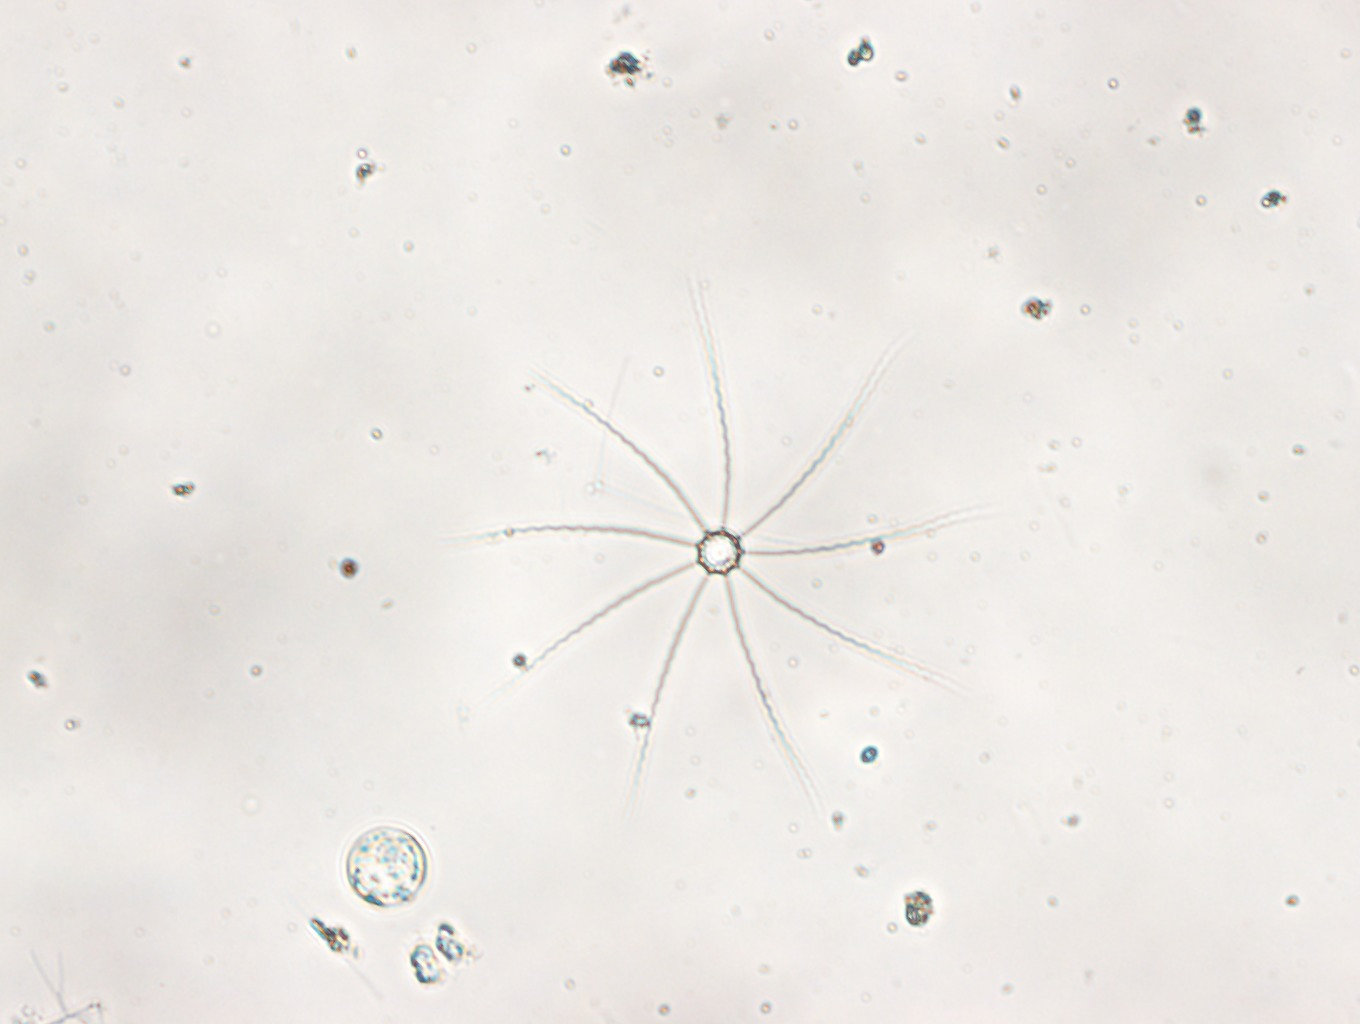bacteriastrum: (464, 281, 959, 781)
